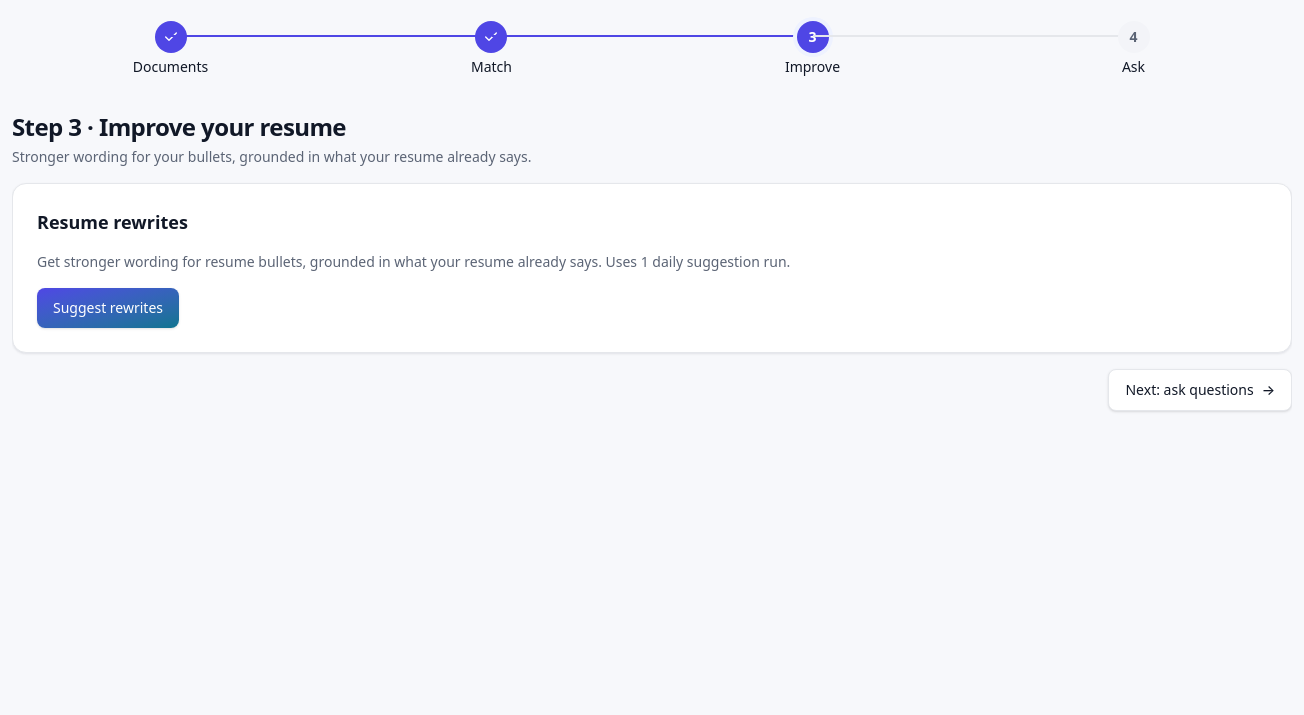
Test: Workspace › runs suggestions when the user moves to Improve with none stored
The image size is (1304, 715).
Click the button "Match".
click(492, 49)  # box [467,19,516,79]
(page scrolled)
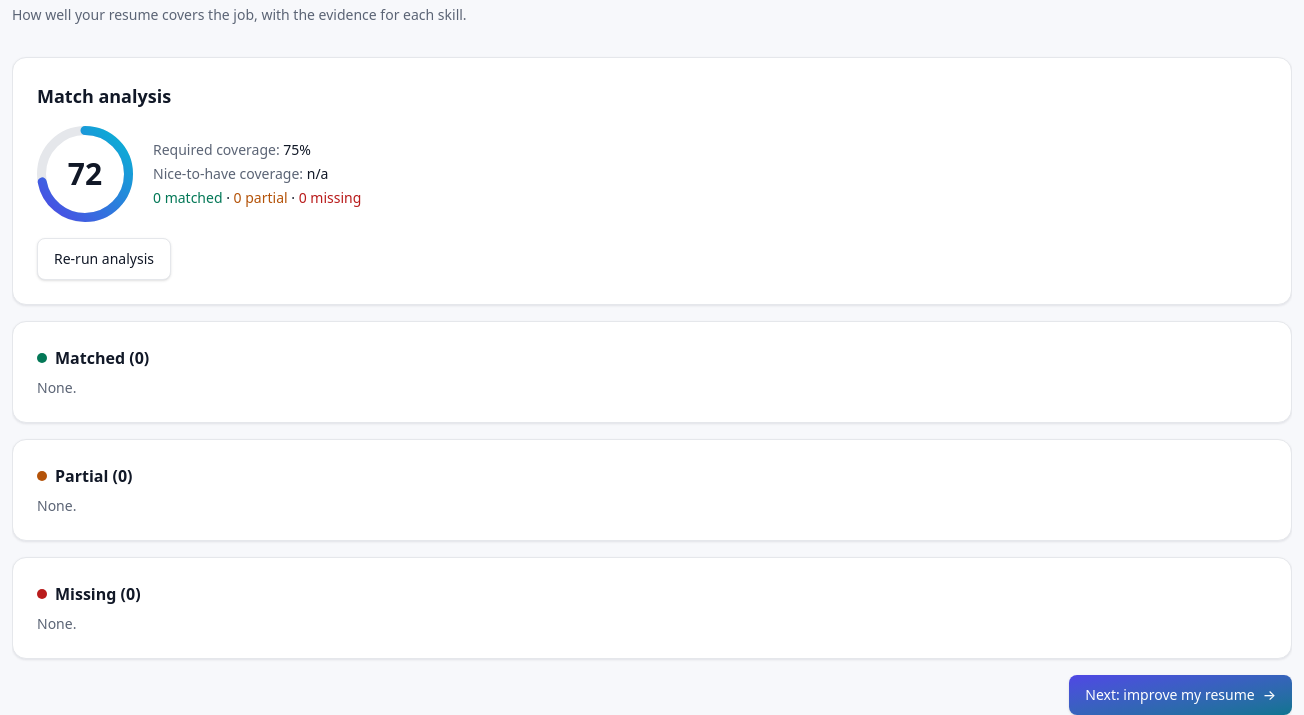
Click the button "Next: improve my resume →".
click(1181, 695)  # box [1069,675,1292,714]
(page scrolled)
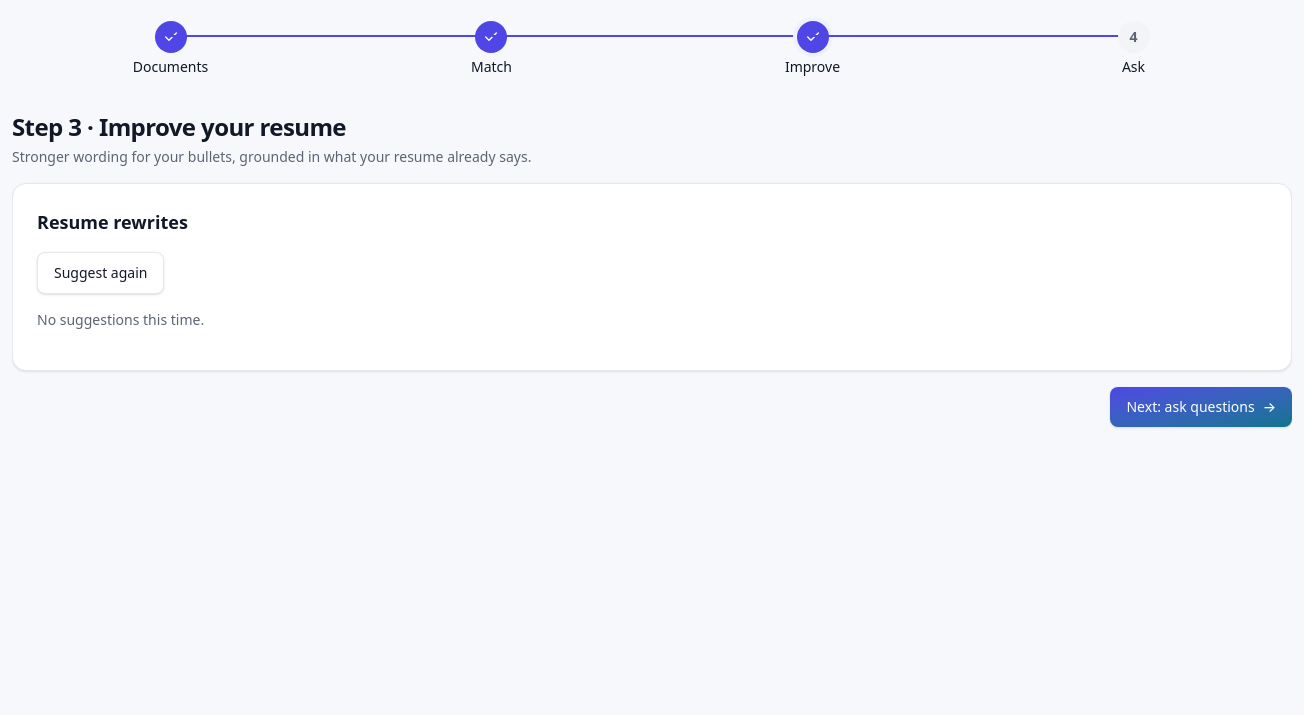
Check: the heading "Step 3 · Improve your resume" is shown, box [12,110,346,143]
